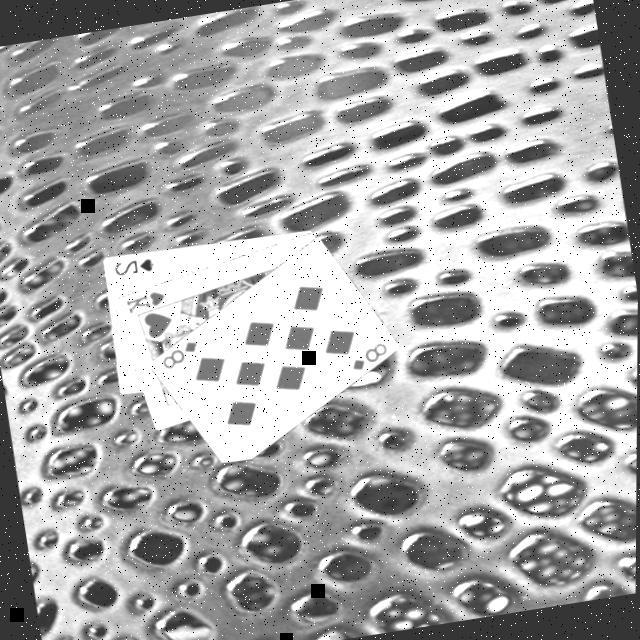2S: (109, 255, 157, 282)
8D: (156, 338, 203, 375), (345, 341, 392, 377)
KH: (122, 289, 170, 320)
